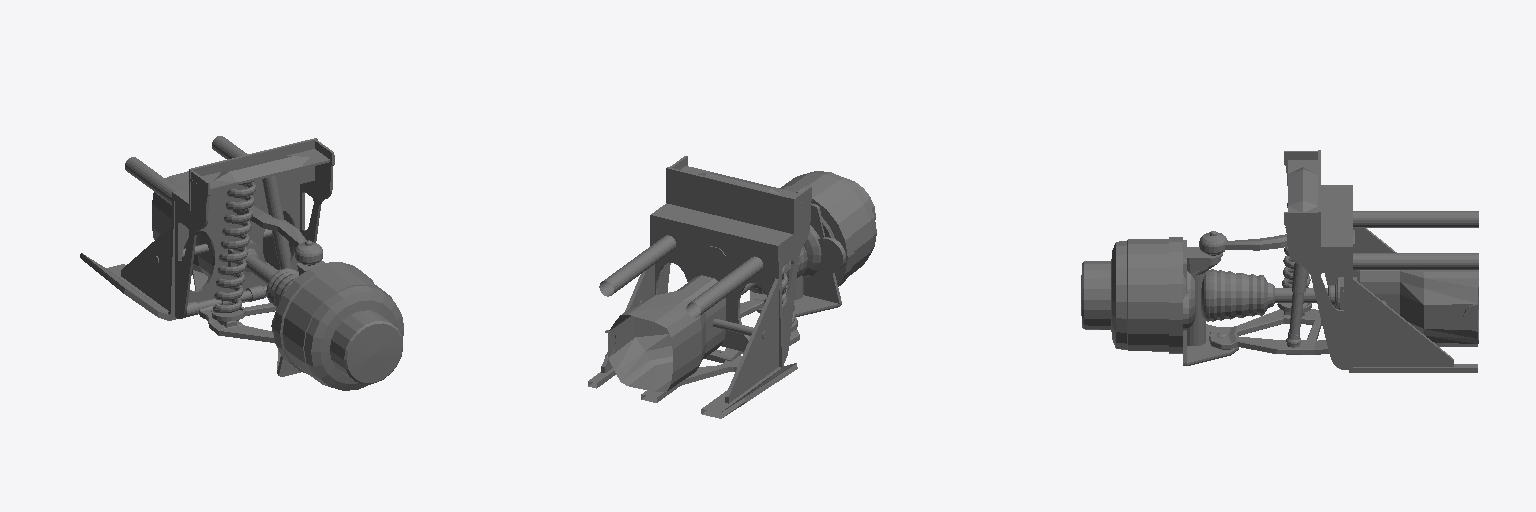
The model's file is sus2.obj.
3 renders of one model, left to right at view 1: azimuth 30°, elevation 25°; view 2: azimuth 150°, elevation 25°; view 3: azimuth 270°, elevation 25°, orthographic.
Parts seen in each view (by area): view 1: pCylinder1, pCube20, polySurface2 polySurface6, pCube22, pCube33, pCube23, pCube8, pCylinder7, pCylinder6, pCylinder8, pCylinder14, pCylinder26; view 2: pCube20, pCube8, pCylinder1, pCube33, pCube22, pCube1, pCylinder27, pCylinder26, pCylinder19, pCube32, pCylinder3, pCube5; view 3: pCylinder1, pCube8, pCube20, pCube32, pCube23, pCylinder7, pCylinder8, pCylinder26, pCylinder27, pCylinder6, pCube1, pCylinder14 (+3 smaller).
Boxes of the visible parts, x1=… form: pCylinder1: x1=273, y1=262, x2=403, y2=390; pCube20: x1=80, y1=138, x2=329, y2=320; polySurface2 polySurface6: x1=213, y1=181, x2=255, y2=312; pCube22: x1=175, y1=170, x2=209, y2=318; pCube33: x1=121, y1=227, x2=170, y2=310; pCube23: x1=300, y1=140, x2=334, y2=242; pCube8: x1=152, y1=171, x2=212, y2=276; pCylinder7: x1=229, y1=241, x2=298, y2=307; pCylinder6: x1=233, y1=201, x2=322, y2=265; pCylinder8: x1=199, y1=292, x2=276, y2=342; pCylinder14: x1=262, y1=176, x2=291, y2=269; pCylinder26: x1=125, y1=157, x2=179, y2=203; pCube20: x1=588, y1=166, x2=809, y2=418; pCube8: x1=608, y1=275, x2=725, y2=391; pCylinder1: x1=780, y1=171, x2=876, y2=286; pCube33: x1=725, y1=278, x2=778, y2=403; pCube22: x1=780, y1=186, x2=811, y2=362; pCube1: x1=750, y1=203, x2=841, y2=316; pCylinder27: x1=599, y1=235, x2=675, y2=296; pCylinder26: x1=686, y1=256, x2=762, y2=317; pCylinder19: x1=818, y1=237, x2=845, y2=272; pCube32: x1=601, y1=264, x2=654, y2=372; pCylinder3: x1=802, y1=225, x2=821, y2=277; pCube5: x1=702, y1=246, x2=725, y2=276; pCylinder1: x1=1081, y1=237, x2=1185, y2=353; pCube8: x1=1357, y1=270, x2=1478, y2=343; pCube20: x1=1288, y1=150, x2=1477, y2=372; pCube32: x1=1353, y1=278, x2=1453, y2=366; pCube23: x1=1284, y1=212, x2=1348, y2=369; pCylinder7: x1=1201, y1=269, x2=1339, y2=321; pCylinder8: x1=1209, y1=309, x2=1328, y2=354; pCylinder26: x1=1353, y1=211, x2=1478, y2=227; pCylinder27: x1=1353, y1=253, x2=1478, y2=269; pCylinder6: x1=1199, y1=231, x2=1287, y2=255; pCube1: x1=1183, y1=240, x2=1238, y2=365; pCylinder14: x1=1288, y1=263, x2=1307, y2=339.
Size of the model in its own units: 1.82 by 1.79 by 3.89.